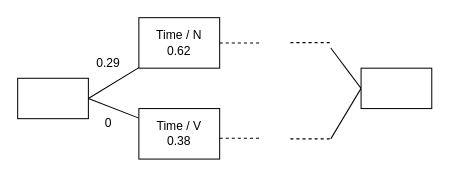
Image size: 449x177. Some labels were removed from this diagram. Here are the shapes that lost their labels. From the top down, the centre of each, then its label:
At point 52,98: "<BOS>".
At point 396,88: "<EOS>".
